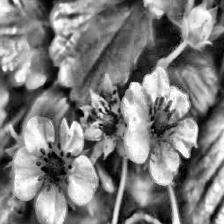Blossom Blight: (32, 140, 76, 196), (142, 95, 180, 149), (95, 99, 124, 139)
